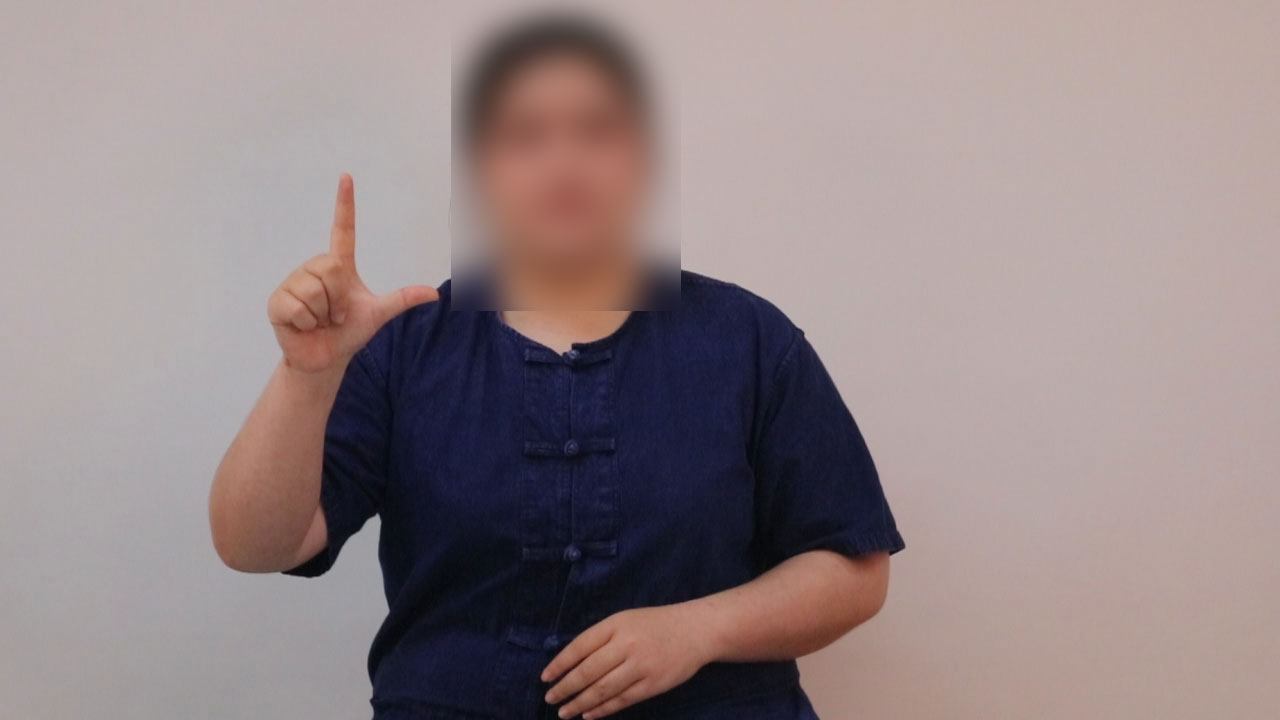lor: (208, 148, 486, 383)
